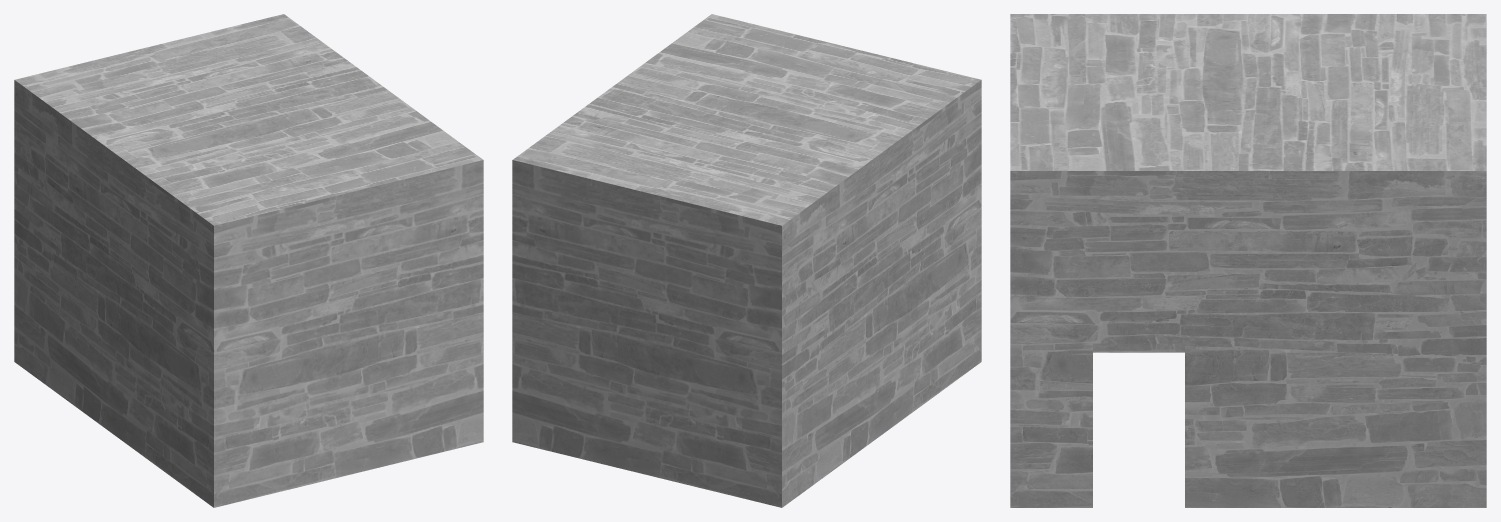
Rendered from house1.fbx.
3 views of the same model, side by side, from view 1: azimuth 30°, elevation 25°; view 2: azimuth 150°, elevation 25°; view 3: azimuth 270°, elevation 25° (orthographic). The views are drawn at different scales.
Parts seen in each view (by area): view 1: Cube; view 2: Cube; view 3: Cube.
Part boxes in pixels (left/top/right/bottom): Cube: left=14, top=14, right=483, bottom=507; Cube: left=512, top=14, right=981, bottom=507; Cube: left=1010, top=14, right=1486, bottom=507.
Size of the model in its own units: 200 by 200 by 256.
1 material, 1 textured.
